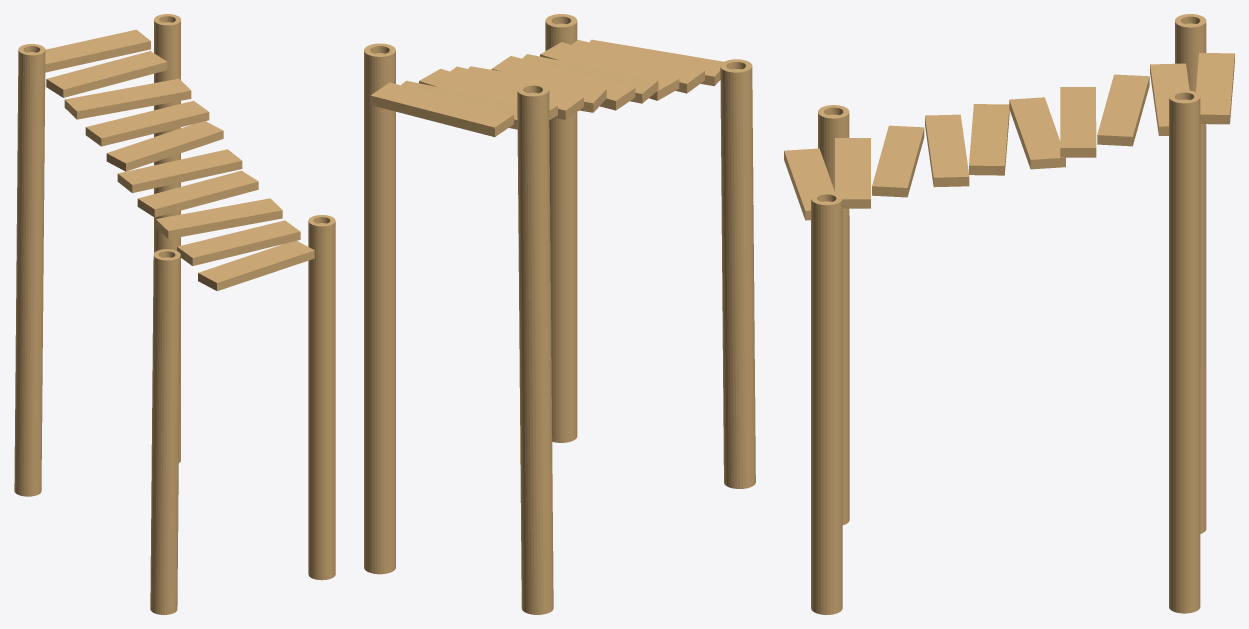
File: WoodenStaircase.fbx
3 views of the same model, side by side, from view 1: azimuth 30°, elevation 25°; view 2: azimuth 150°, elevation 25°; view 3: azimuth 270°, elevation 25° (orthographic). The views are drawn at different scales.
Parts seen in each view (by area): view 1: Planks, Lower Legs, Higher Legs; view 2: Higher Legs, Lower Legs, Planks; view 3: Planks, Higher Legs, Lower Legs.
Part boxes in pixels (x1,y1,x2,y2): Planks: (45, 29, 314, 291); Lower Legs: (150, 215, 335, 614); Higher Legs: (14, 14, 180, 496); Higher Legs: (364, 43, 553, 614); Lower Legs: (545, 14, 755, 488); Planks: (370, 39, 723, 137); Planks: (784, 53, 1234, 220); Higher Legs: (1169, 14, 1206, 613); Lower Legs: (811, 105, 849, 614).
Bounding box in the file's own units: 600 × 1422 × 1133.
